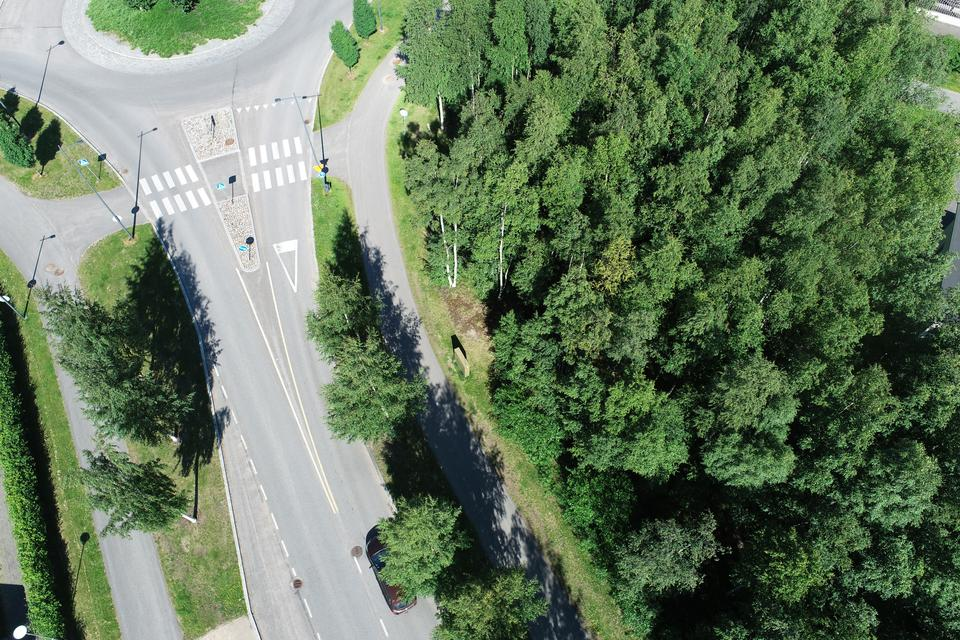intersection: (38, 124, 406, 261)
roundabout: (0, 0, 367, 101)
